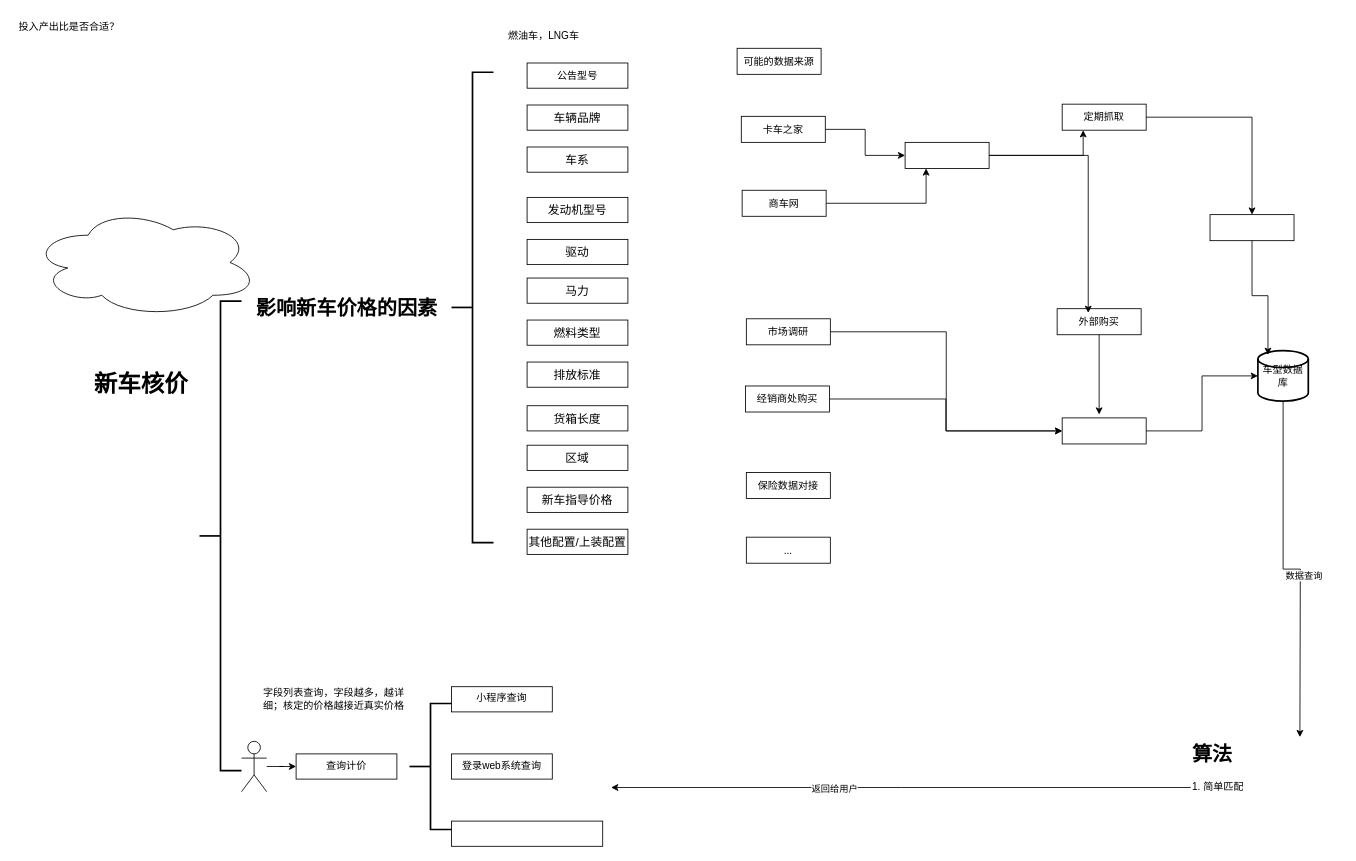
This 1356x861 diagram has some shape labels left out. The shapes that lost their labels are listed below. From the top down, each one's centre as x and y in pixels, then its label:
At pixel 946 155: "获取方式".
At pixel 1251 227: "程序写入".
At pixel 144 262: "目标：牵引车、自卸车价格波动在5000以内； 载货车在3000；挂车在1000； 专用车另议".
At pixel 1103 430: "固定字段，系统页面导入".
At pixel 254 766: "客户".
At pixel 527 833: "系统接口对接，REST方式调用".
